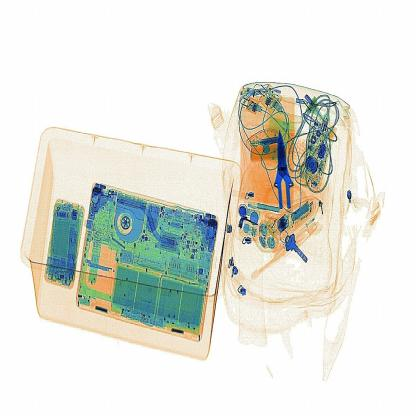gun: (263, 131, 312, 222)
